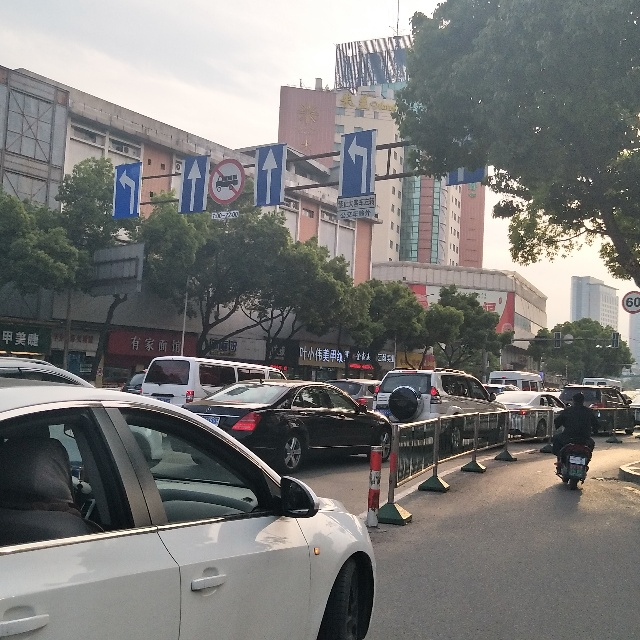left: (340, 129, 375, 197), (112, 161, 142, 218)
straight: (252, 144, 286, 205), (178, 155, 209, 213)
